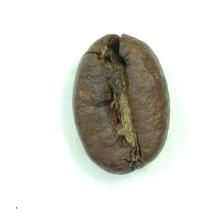NG: (95, 47, 147, 160)
